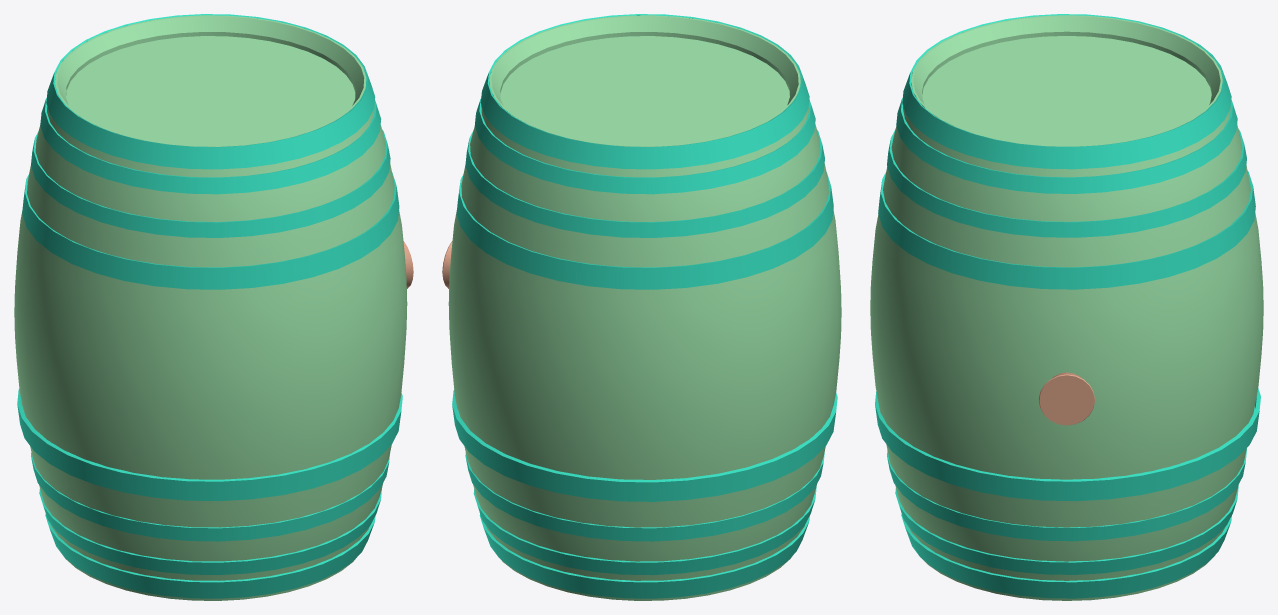
Rendered from barriqueA.fbx.
The picture shows the model from 3 angles, left to right: view 1: azimuth 30°, elevation 25°; view 2: azimuth 150°, elevation 25°; view 3: azimuth 270°, elevation 25°; orthographic projection.
Visible parts, largest first — view 1: barriqueA; view 2: barriqueA; view 3: barriqueA.
Part boxes in pixels (x1=…): barriqueA: x1=14, y1=14, x2=413, y2=600; barriqueA: x1=442, y1=14, x2=841, y2=600; barriqueA: x1=870, y1=14, x2=1263, y2=600.
Size of the model in its own units: 72.64 by 87.82 by 68.87.
